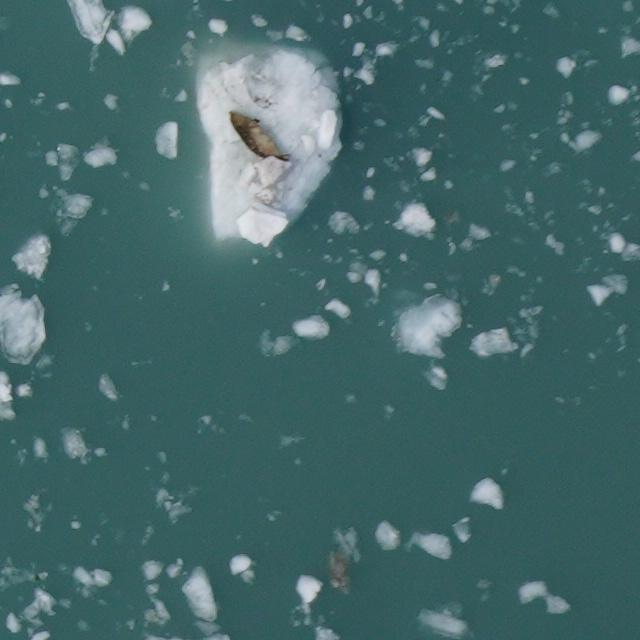seal: (222, 98, 293, 176)
